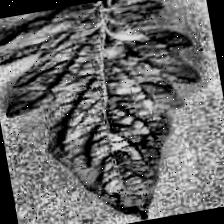leaf mold: (0, 0, 218, 224)
